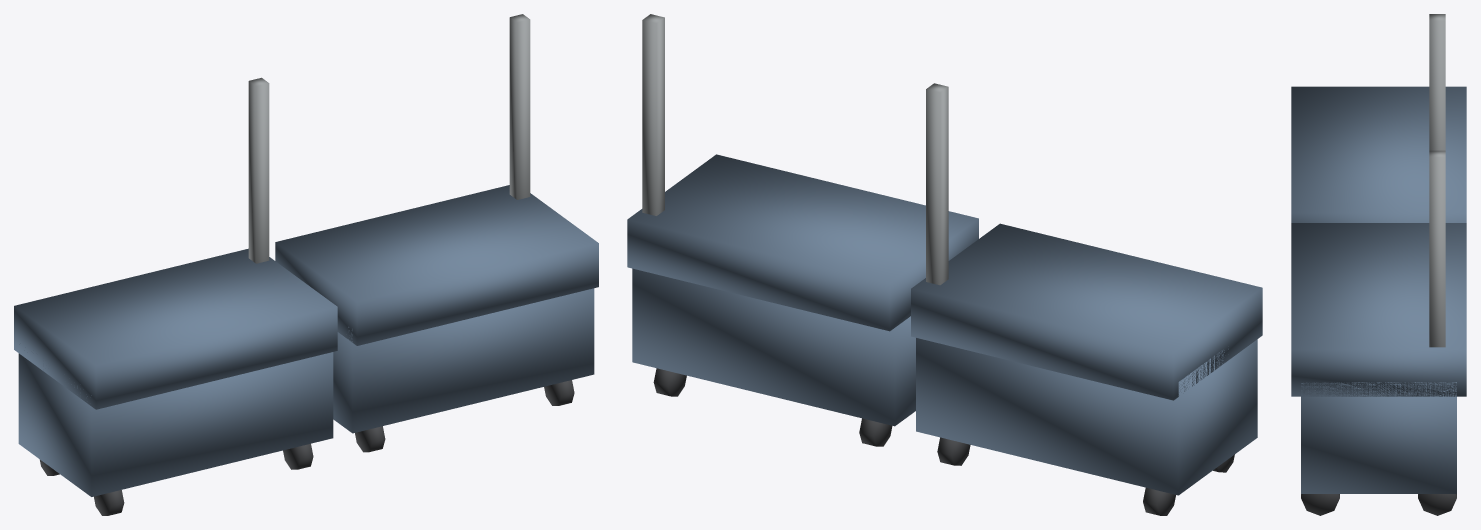
The model's file is housekeeping_cart__cluster.glb.
3 renders of one model, left to right at view 1: azimuth 30°, elevation 25°; view 2: azimuth 150°, elevation 25°; view 3: azimuth 270°, elevation 25°, orthographic. The views are drawn at different scales.
Parts seen in each view (by area): view 1: world; view 2: world; view 3: world.
Part boxes in pixels (left/top/right/bottom): world: left=14, top=14, right=598, bottom=515; world: left=627, top=14, right=1262, bottom=515; world: left=1291, top=14, right=1466, bottom=515.
Size of the model in its own units: 1.91 by 1.25 by 0.54.
